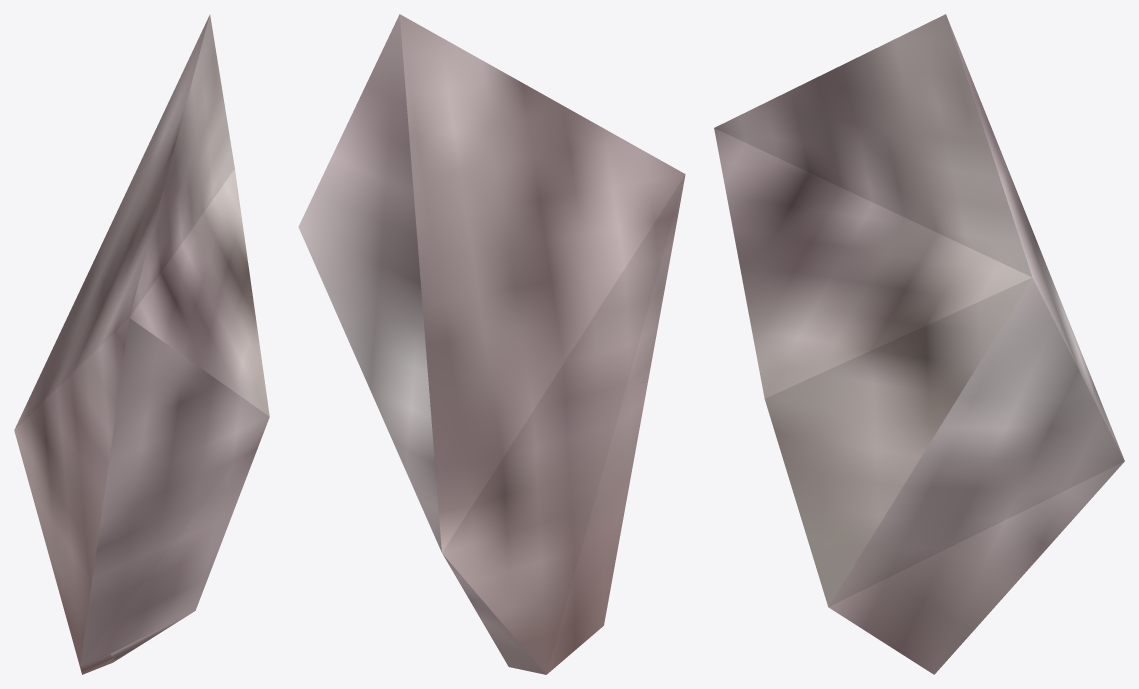
3 renders of one model, left to right at view 1: azimuth 30°, elevation 25°; view 2: azimuth 150°, elevation 25°; view 3: azimuth 270°, elevation 25°, orthographic. The views are drawn at different scales.
Parts seen in each view (by area): view 1: Mesh_0; view 2: Mesh_0; view 3: Mesh_0.
Boxes of the visible parts, left/top/right/bottom form: Mesh_0: left=14, top=14, right=269, bottom=674; Mesh_0: left=298, top=14, right=685, bottom=674; Mesh_0: left=714, top=14, right=1124, bottom=674.
Bounding box in the file's own units: 1.1 × 2.69 × 1.39.
Materials: 1 (1 with a texture image).
